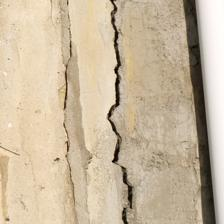Crack: (0, 0, 148, 113), (14, 0, 126, 96)
